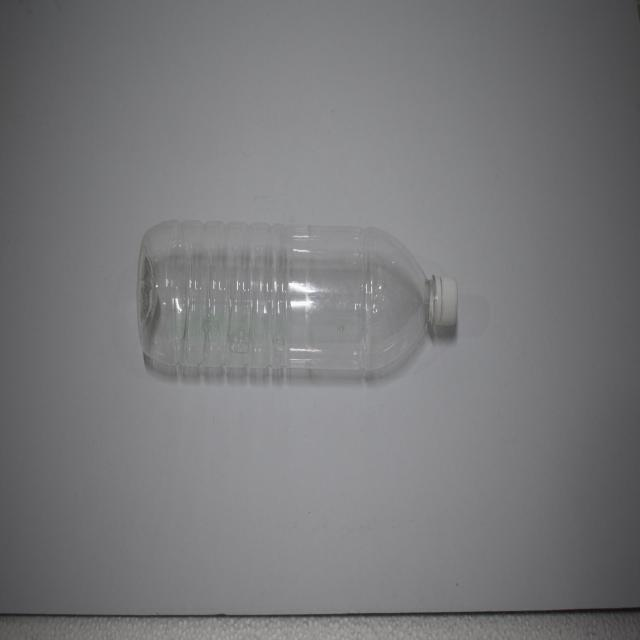bottle: (128, 209, 476, 376)
